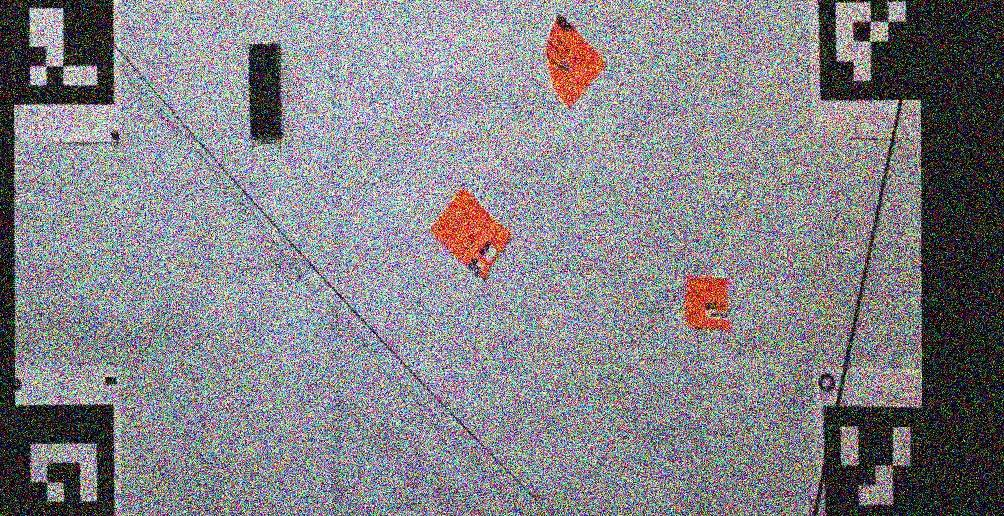obstacle: (428, 185, 513, 281), (544, 14, 607, 112), (248, 45, 284, 143), (683, 270, 732, 334)
